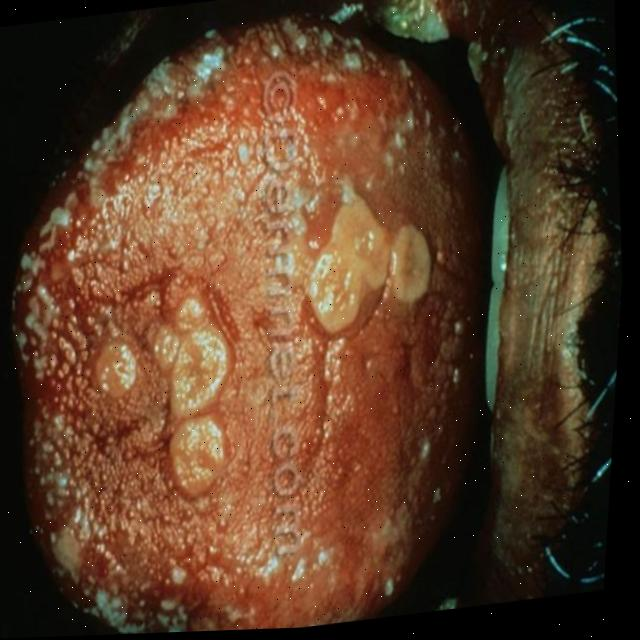Shingles: (33, 57, 226, 246), (103, 293, 270, 506), (290, 199, 426, 330)
